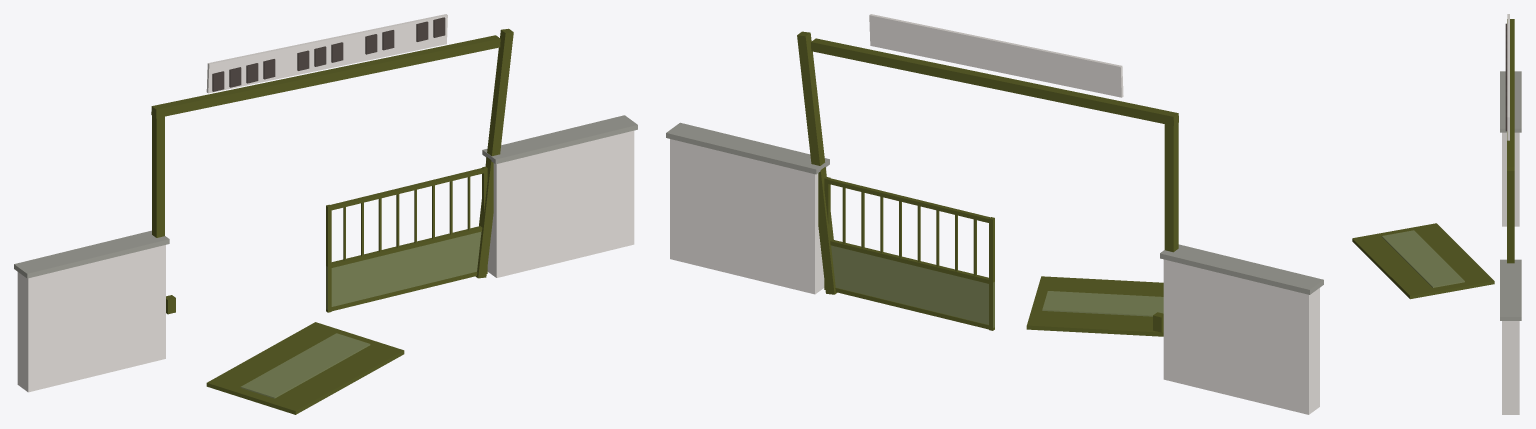
File: SM_PuertaValla_v4_LOD0.fbx
3 views of the same model, side by side, from view 1: azimuth 30°, elevation 25°; view 2: azimuth 150°, elevation 25°; view 3: azimuth 270°, elevation 25° (orthographic). The views are drawn at different scales.
Visible parts, largest first — view 1: SM_puerta_valla_v4_LOD0, Hoja_E; view 2: SM_puerta_valla_v4_LOD0, Hoja_E; view 3: SM_puerta_valla_v4_LOD0.
Boxes of the visible parts, x1,y1,x2,y2 form: SM_puerta_valla_v4_LOD0: (14,14,637,414); Hoja_E: (326,166,487,312); SM_puerta_valla_v4_LOD0: (666,14,1323,414); Hoja_E: (824,177,994,330); SM_puerta_valla_v4_LOD0: (1352,14,1521,414).
Size of the model in its own units: 13.3 by 5.84 by 3.88.
